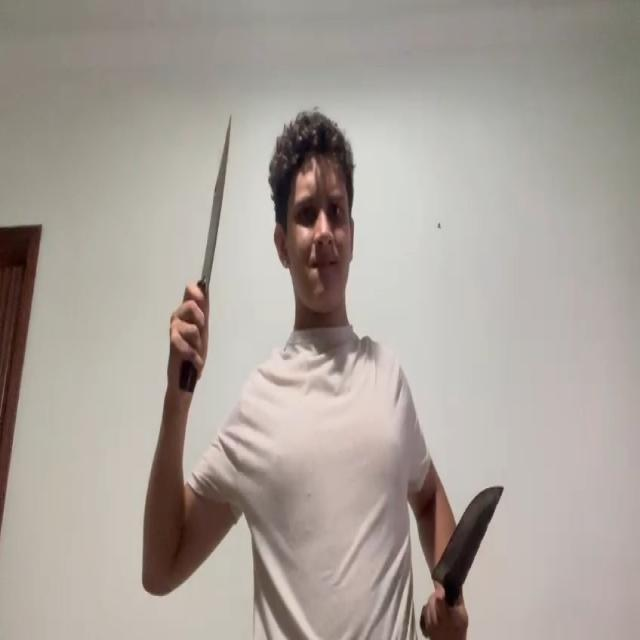knife: (429, 484, 504, 594), (204, 113, 232, 284)
